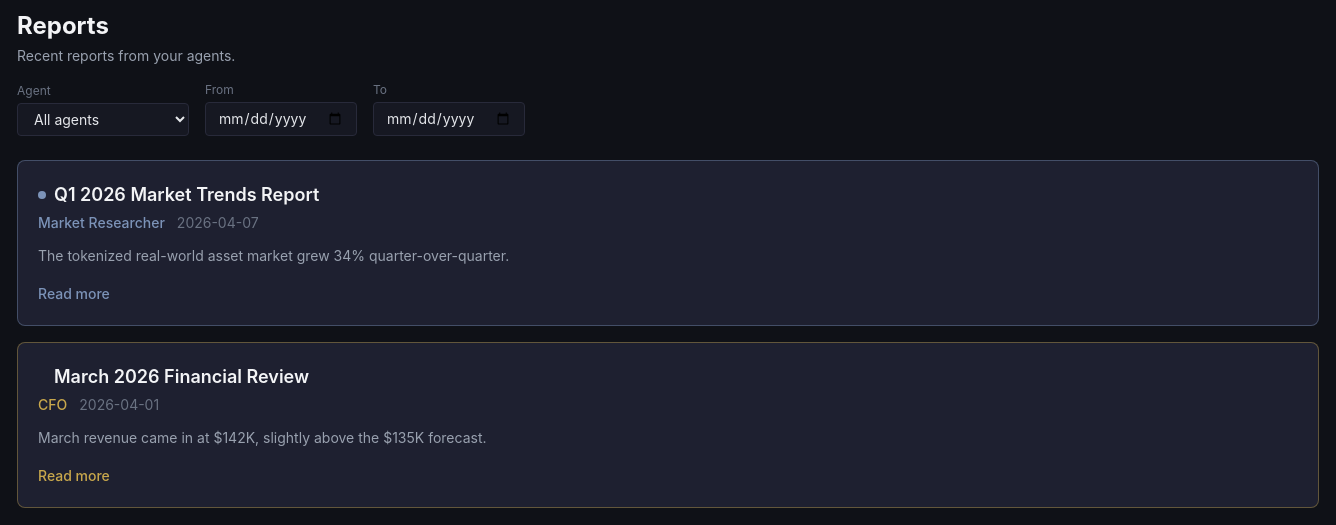
Test: ReportsFeed › filters reports by agent
Expected: the heading "Q1 2026 Market Trends Report" is shown, [54,181,319,209]
Select "CFO" in the dropdown with test id "agent-filter" at x=103, y=120, box [17,103,189,136]
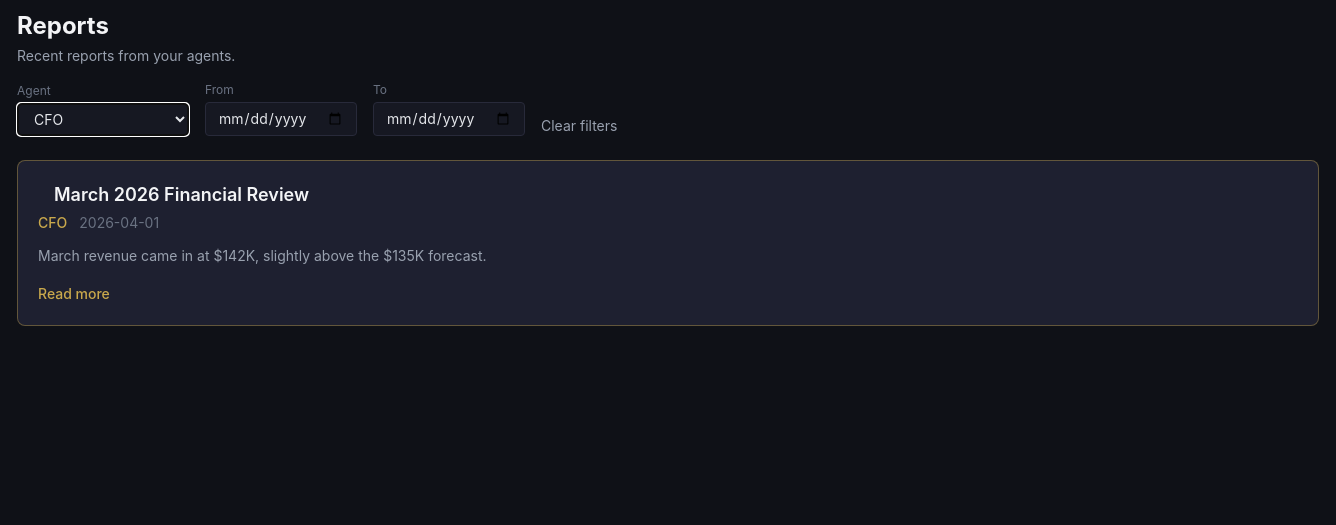
Expected: the heading "March 2026 Financial Review" is shown, [54,181,309,209]
Expected: the heading "Q1 2026 Market Trends Report" is gone
